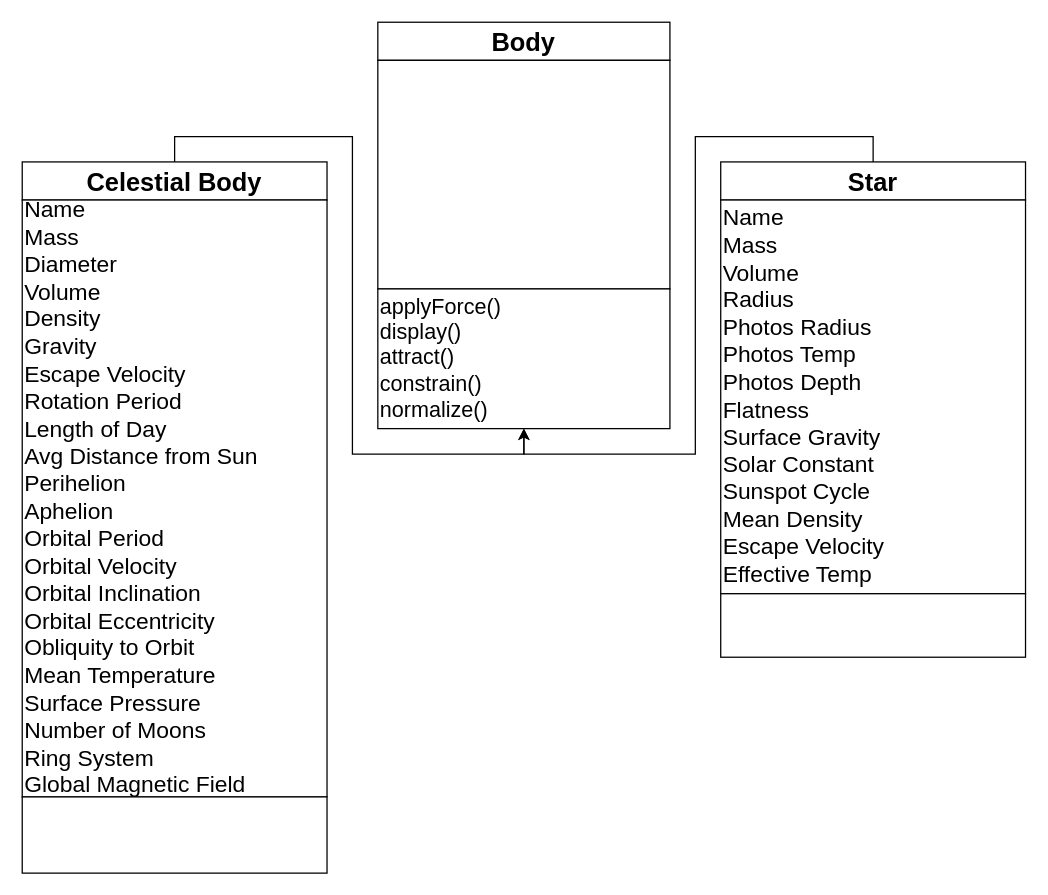
Image size: 1048x895. Some labels were removed from this diagram. The centre of each missing label's shape, as x and y in pixels:
"create_star()" belongs at point 872,624.
"Mass Position Last Position Velocity Acceleration Color Radius Surface Trails" belongs at point 523,174.
"update() create_planet()" belongs at point 174,834.
